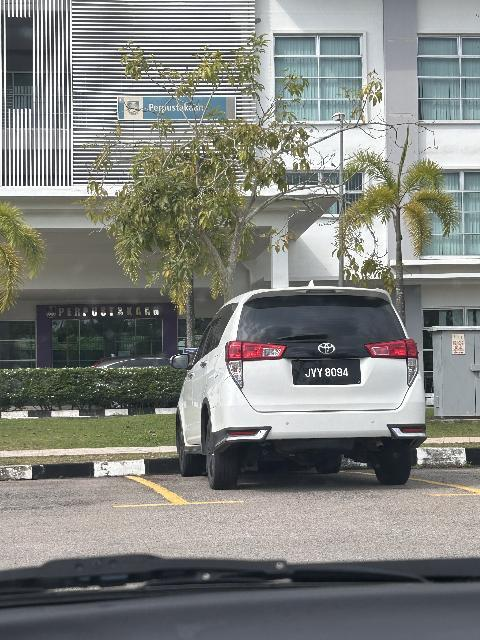JVY8094: (292, 359, 367, 387)
License_Plate: (292, 359, 367, 387)
car: (171, 282, 431, 488)
